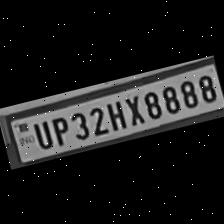2: (83, 101, 109, 137)
3: (65, 106, 91, 142)
8: (137, 86, 163, 122), (192, 70, 218, 106), (156, 80, 181, 116), (174, 76, 199, 110)
H: (100, 96, 127, 133)
P: (46, 112, 72, 147)
U: (27, 116, 53, 152)
X: (120, 92, 146, 126)
